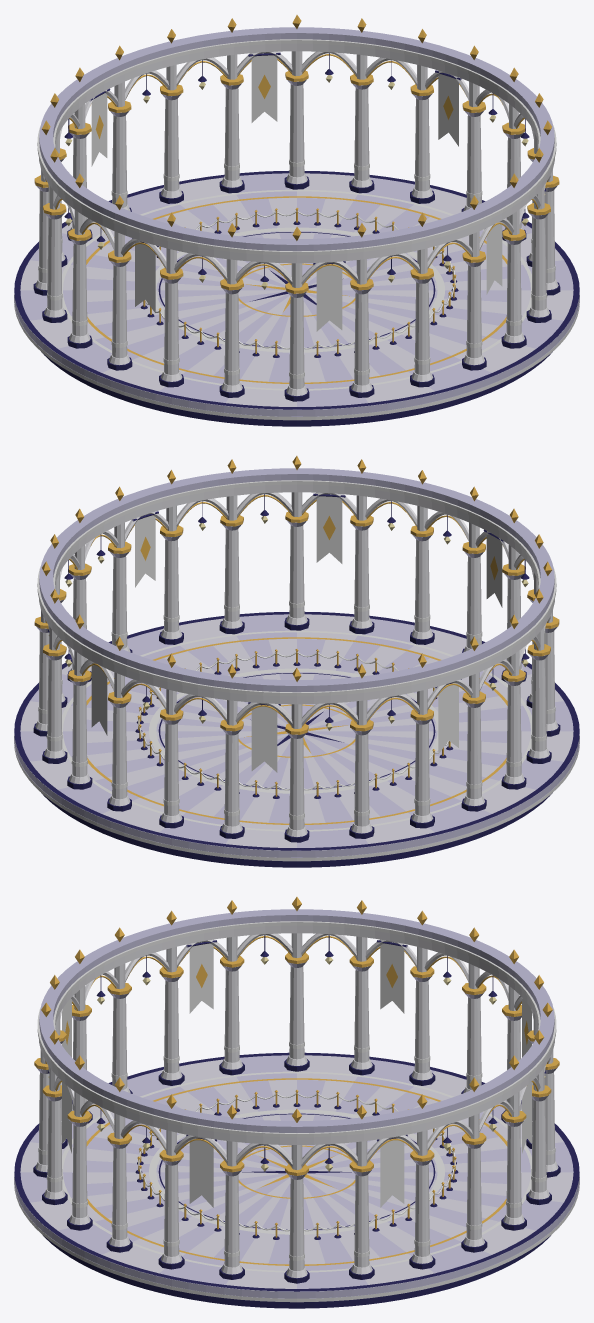
Rendered from hall.glb.
3 renders of one model, top to bottom at view 1: azimuth 30°, elevation 25°; view 2: azimuth 150°, elevation 25°; view 3: azimuth 270°, elevation 25°, orthographic.
Visible parts, largest first — view 1: hall, accent; view 2: hall, accent; view 3: hall, accent.
Part boxes in pixels (x1,y1,x2,y2): hall: [14, 15, 579, 426]; accent: [14, 39, 579, 420]; hall: [14, 456, 579, 867]; accent: [14, 480, 579, 861]; hall: [14, 897, 579, 1308]; accent: [14, 921, 579, 1302].
Size of the model in its own units: 37.25 by 13.85 by 37.25.
